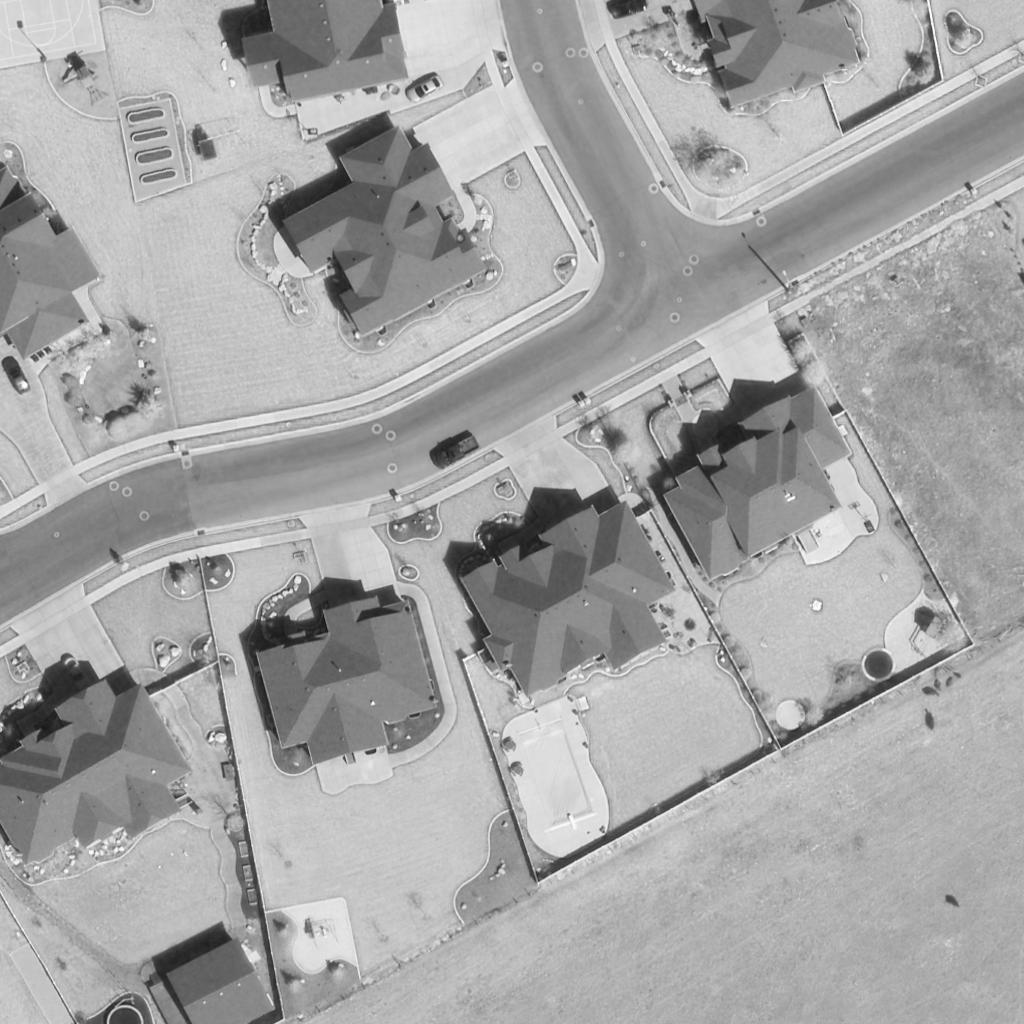vehicle: (432, 435, 482, 471), (404, 75, 446, 105), (1, 355, 31, 395), (607, 0, 651, 22), (61, 657, 91, 689)
